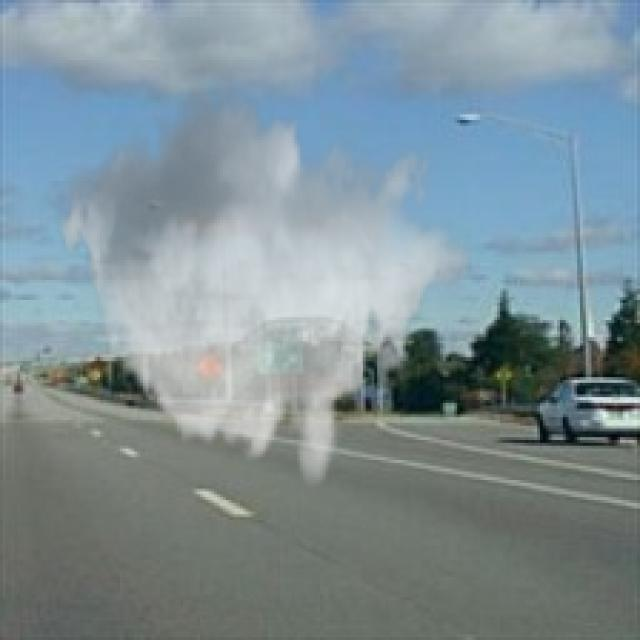smoke: (54, 69, 472, 488)
